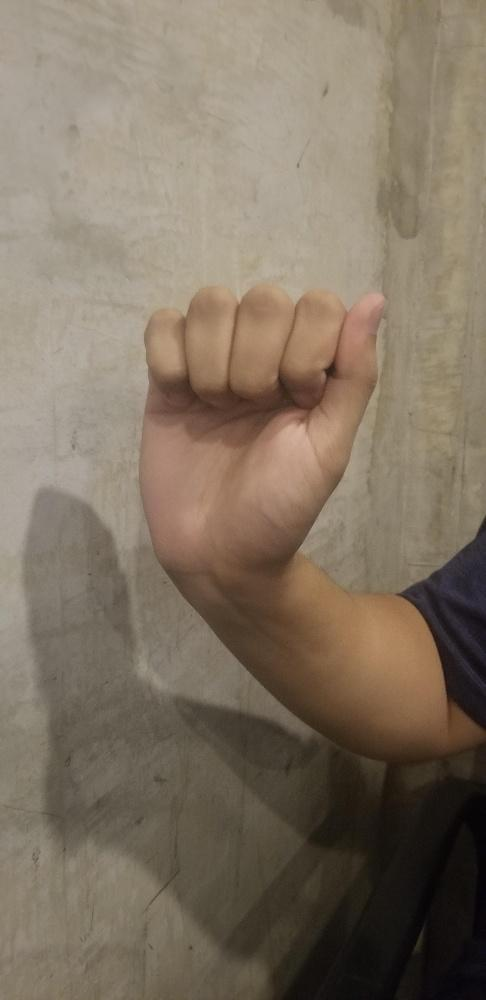a: (139, 281, 383, 567)
